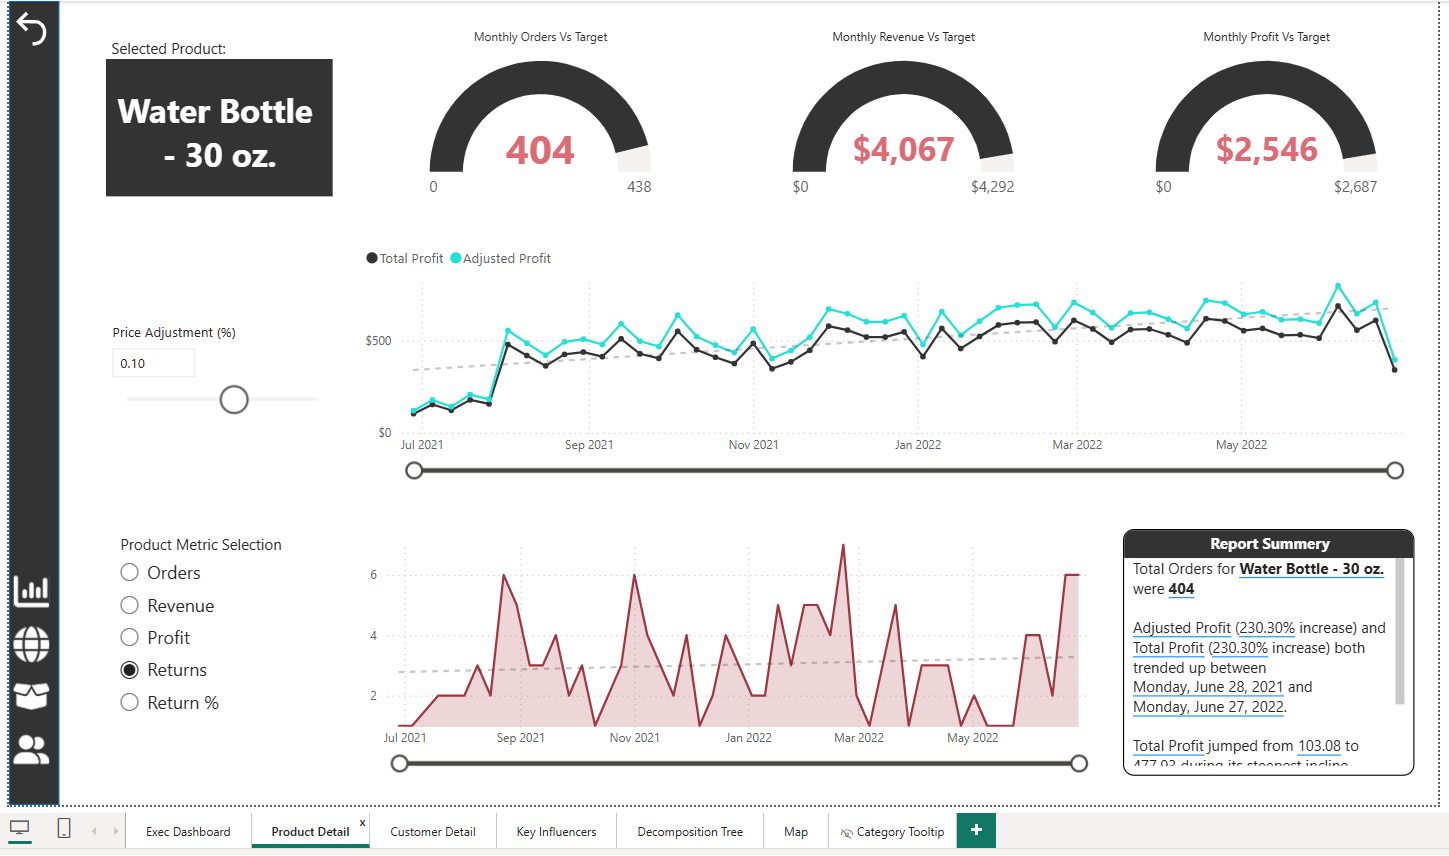

Layout of this report page (visuals, bound fields, positions):
{"tool":"powerbi","page":{"name":" Product Detail","canvas":[1280,720],"ordinal":1},"visuals":[{"type":"shape","box":[0,0,45,720],"z":0},{"type":"actionButton","box":[0,508.7,44.8,40.3],"z":0,"group":"g1"},{"type":"gauge","title":"Monthly Orders Vs Target","fields":{"MaxValue":["Measure Table.Orders Target"],"Y":["Measure Table.Total Orders"]},"box":[371.6,24.2,208.7,170.1],"z":1000},{"type":"actionButton","box":[0,603,44.8,40.3],"z":1000,"group":"g1"},{"type":"gauge","title":"Monthly Revenue Vs Target","fields":{"MaxValue":["Measure Table.Revenue Target"],"Y":["Measure Table.Total Revenue"]},"box":[696.7,24.2,208.7,170.1],"z":2000},{"type":"actionButton","box":[0,555.9,44.8,40.3],"z":2000,"group":"g1"},{"type":"gauge","title":"Monthly Profit Vs Target","fields":{"MaxValue":["Measure Table.Profit Target"],"Y":["Measure Table.Total Profit"]},"box":[1021.8,24.2,208.7,170.1],"z":3000},{"type":"actionButton","box":[0,650.2,44.8,40.3],"z":3000,"group":"g1"},{"type":"lineChart","title":"Profit Trending","fields":{"Category":["Calendar Lookup.Date Hierarchy.Start of Year","Calendar Lookup.Date Hierarchy.Start of Month","Calendar Lookup.Date Hierarchy.Start of Week","Calendar Lookup.Date Hierarchy.Date"],"Y":["Measure Table.Total Profit","Measure Table.Adjusted Profit"]},"box":[314.3,210.4,955.5,221.2],"z":4000},{"type":"areaChart","title":"Returns Trending","fields":{"Category":["Calendar Lookup.Date Hierarchy.Start of Year","Calendar Lookup.Date Hierarchy.Start of Month","Calendar Lookup.Date Hierarchy.Start of Week","Calendar Lookup.Date Hierarchy.Date"],"Y":["Measure Table.Total Returns"]},"box":[314.3,472.8,672.5,221.2],"z":5000},{"type":"card","fields":{"Values":["Min(Product Lookup.ProductName)"]},"box":[86.9,51.9,203.3,122.7],"z":6000},{"type":"textbox","box":[86.9,28.7,133.4,30.4],"z":7000},{"type":"group","id":"g1","title":"Navigation Buttons","box":[0,508.7,44.8,181.8],"z":8000},{"type":"slicer","fields":{"Values":["Price Adjustment (%).Price Adjustment (%)"]},"box":[79.7,283,218.5,116.4],"z":9000},{"type":"slicer","fields":{"Values":["Product Metric Selection.Product Metric Selection"]},"box":[86.9,472.8,203.3,217.6],"z":10000},{"type":"textbox","title":"Report Summery","box":[997.6,472.8,261.5,221.2],"z":11000},{"type":"actionButton","box":[0,4.5,44.8,40.3],"z":11001}]}

Visuals, with their boxes on the page's 1280x720 design canvas (x1, y1, x2, y2). These are canvas units, not pixel positions in the 1449x856 screenshot, which may show the page scaled, cropped or inside an application window:
shape: (0,0,45,720)
actionButton: (0,509,45,549)
"Monthly Orders Vs Target" gauge: (372,24,580,194)
actionButton: (0,603,45,643)
"Monthly Revenue Vs Target" gauge: (697,24,905,194)
actionButton: (0,556,45,596)
"Monthly Profit Vs Target" gauge: (1022,24,1230,194)
actionButton: (0,650,45,690)
"Profit Trending" lineChart: (314,210,1270,432)
"Returns Trending" areaChart: (314,473,987,694)
card - Min(Product Lookup.ProductName): (87,52,290,175)
textbox: (87,29,220,59)
"Navigation Buttons" group: (0,509,45,690)
slicer - Price Adjustment (%).Price Adjustment (%): (80,283,298,399)
slicer - Product Metric Selection.Product Metric Selection: (87,473,290,690)
"Report Summery" textbox: (998,473,1259,694)
actionButton: (0,4,45,45)
